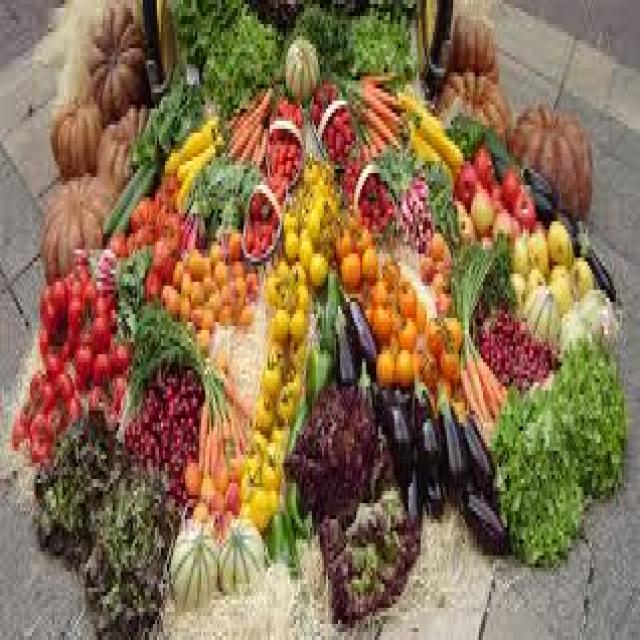organic waste: (493, 378, 580, 568), (83, 459, 177, 632), (284, 374, 390, 524), (316, 483, 421, 624), (121, 362, 199, 524), (113, 298, 211, 423), (549, 342, 624, 503), (34, 418, 111, 568), (509, 97, 594, 213), (199, 4, 284, 113), (38, 169, 121, 274), (80, 0, 149, 109), (449, 234, 513, 346), (125, 60, 199, 153), (433, 64, 509, 137), (185, 153, 264, 221), (477, 310, 549, 382), (221, 81, 276, 169), (95, 101, 151, 181), (167, 515, 215, 608), (291, 0, 350, 72), (348, 12, 409, 81), (50, 93, 103, 169), (165, 0, 239, 52), (374, 378, 412, 479), (445, 4, 497, 77), (217, 515, 266, 592), (445, 109, 511, 165), (113, 242, 149, 334), (173, 137, 221, 205), (173, 133, 230, 189), (459, 475, 505, 543), (396, 117, 451, 173), (455, 403, 491, 483), (392, 169, 428, 246), (412, 109, 461, 165), (163, 117, 215, 169), (113, 161, 155, 225), (435, 386, 461, 487), (517, 282, 558, 346), (408, 374, 436, 467), (338, 282, 372, 358), (579, 282, 620, 342), (103, 161, 141, 225), (284, 32, 318, 97), (244, 189, 278, 254), (520, 157, 558, 213), (242, 475, 280, 531), (38, 278, 66, 354), (461, 334, 487, 415), (216, 366, 252, 423), (420, 157, 450, 225), (72, 241, 113, 290), (264, 507, 296, 568), (360, 177, 394, 234), (582, 237, 612, 298), (332, 298, 354, 378), (304, 342, 334, 399), (282, 394, 310, 455), (266, 129, 298, 181), (473, 346, 497, 415), (314, 262, 334, 342), (322, 105, 352, 157), (286, 471, 308, 539), (556, 298, 582, 354), (554, 197, 586, 242), (157, 205, 189, 250), (544, 209, 572, 258), (78, 278, 115, 314), (467, 181, 493, 230), (420, 451, 442, 507), (149, 233, 175, 278), (402, 475, 420, 535), (181, 205, 205, 250), (220, 398, 242, 447), (104, 370, 124, 423), (548, 262, 572, 306), (264, 266, 290, 306), (86, 310, 112, 350), (64, 294, 84, 346), (85, 382, 108, 427), (392, 89, 435, 112), (497, 161, 519, 205), (455, 157, 477, 201), (129, 193, 155, 230), (357, 350, 372, 411), (568, 249, 590, 290), (451, 197, 473, 238), (526, 221, 546, 266), (518, 266, 546, 298), (336, 242, 360, 278), (244, 427, 262, 475), (489, 202, 515, 234), (308, 80, 334, 112), (509, 186, 532, 222), (254, 382, 274, 423), (260, 346, 280, 387), (298, 201, 318, 242), (471, 137, 491, 177), (260, 435, 280, 475), (29, 422, 54, 454), (212, 410, 226, 467), (439, 310, 461, 346), (366, 298, 388, 334), (153, 169, 175, 205), (483, 362, 501, 403), (72, 346, 90, 387), (459, 362, 475, 407), (181, 451, 199, 491), (310, 165, 328, 205), (392, 310, 414, 342), (123, 226, 151, 250), (514, 229, 530, 270), (374, 342, 392, 378), (306, 250, 324, 286), (106, 334, 126, 366), (421, 350, 436, 391), (223, 475, 240, 511), (378, 253, 396, 286), (507, 262, 523, 298), (404, 350, 422, 382), (396, 274, 414, 306), (276, 96, 300, 120), (288, 330, 306, 362), (270, 306, 286, 342), (288, 302, 304, 338), (10, 402, 28, 434), (196, 398, 206, 455), (394, 347, 410, 382), (185, 246, 205, 274), (62, 394, 82, 422), (435, 351, 455, 378), (90, 351, 110, 378), (44, 398, 60, 431), (424, 318, 440, 350), (300, 153, 316, 185), (143, 266, 159, 298), (210, 254, 228, 282), (62, 266, 80, 294), (268, 411, 286, 438), (280, 226, 298, 253), (427, 222, 442, 254), (228, 270, 245, 298), (223, 226, 240, 253), (334, 222, 348, 254), (244, 266, 258, 298), (161, 282, 177, 310), (26, 402, 42, 430), (296, 230, 308, 266), (234, 302, 252, 326), (386, 298, 401, 326), (226, 447, 243, 471), (358, 242, 372, 270), (338, 161, 354, 185), (198, 471, 214, 495), (204, 423, 212, 471), (106, 226, 122, 250), (44, 350, 60, 374), (28, 371, 42, 398), (195, 326, 208, 354), (214, 302, 232, 322), (39, 378, 54, 402), (216, 282, 233, 302), (208, 234, 225, 254), (487, 177, 499, 205), (354, 222, 368, 246), (294, 278, 308, 302), (282, 206, 296, 230), (52, 370, 66, 394), (226, 254, 242, 274), (200, 306, 213, 330), (432, 286, 444, 310), (346, 202, 358, 226), (410, 298, 420, 326), (368, 278, 382, 298), (177, 290, 187, 318), (189, 499, 205, 515), (426, 262, 438, 282), (248, 189, 260, 209), (276, 254, 288, 274), (171, 258, 181, 282), (187, 274, 199, 294), (202, 270, 212, 294), (212, 258, 222, 282), (78, 314, 88, 338), (334, 125, 342, 153), (274, 418, 296, 426), (437, 238, 447, 254), (439, 266, 447, 286), (189, 302, 199, 318), (388, 326, 396, 342), (384, 278, 392, 294), (181, 270, 189, 286), (342, 121, 348, 137), (286, 137, 292, 149)
